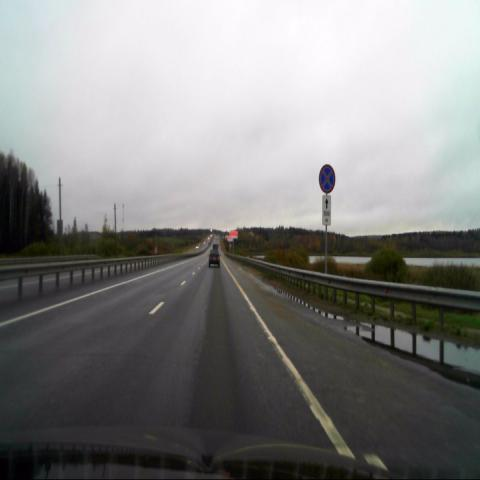8_2_2: (322, 195, 330, 224)
